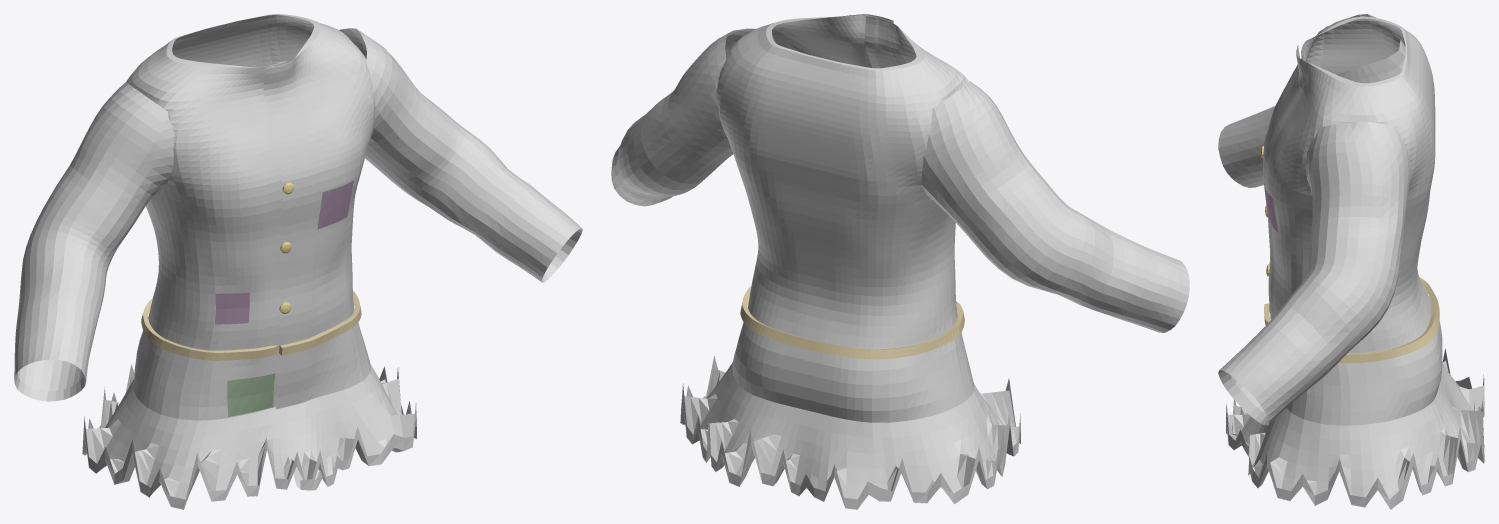
File: ewb_scarecrow.glb
The picture shows the model from 3 angles, left to right: view 1: azimuth 30°, elevation 25°; view 2: azimuth 150°, elevation 25°; view 3: azimuth 270°, elevation 25°; orthographic projection. The views are drawn at different scales.
Visible parts, largest first — view 1: ewb_scarecrow; view 2: ewb_scarecrow; view 3: ewb_scarecrow.
Boxes of the visible parts, x1,y1,x2,y2 form: ewb_scarecrow: (14, 14, 582, 509); ewb_scarecrow: (611, 14, 1189, 509); ewb_scarecrow: (1218, 14, 1484, 509).
Size of the model in its own units: 1.16 by 0.7915 by 0.4894.
